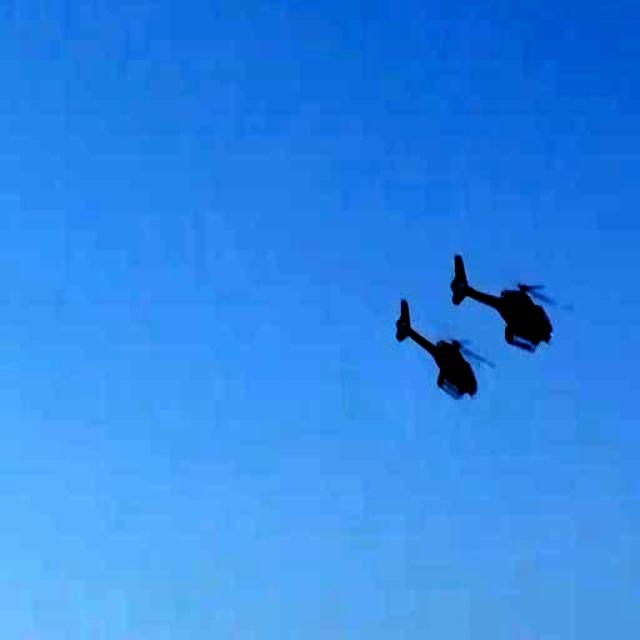drone: (450, 199, 574, 374), (390, 282, 482, 414)
